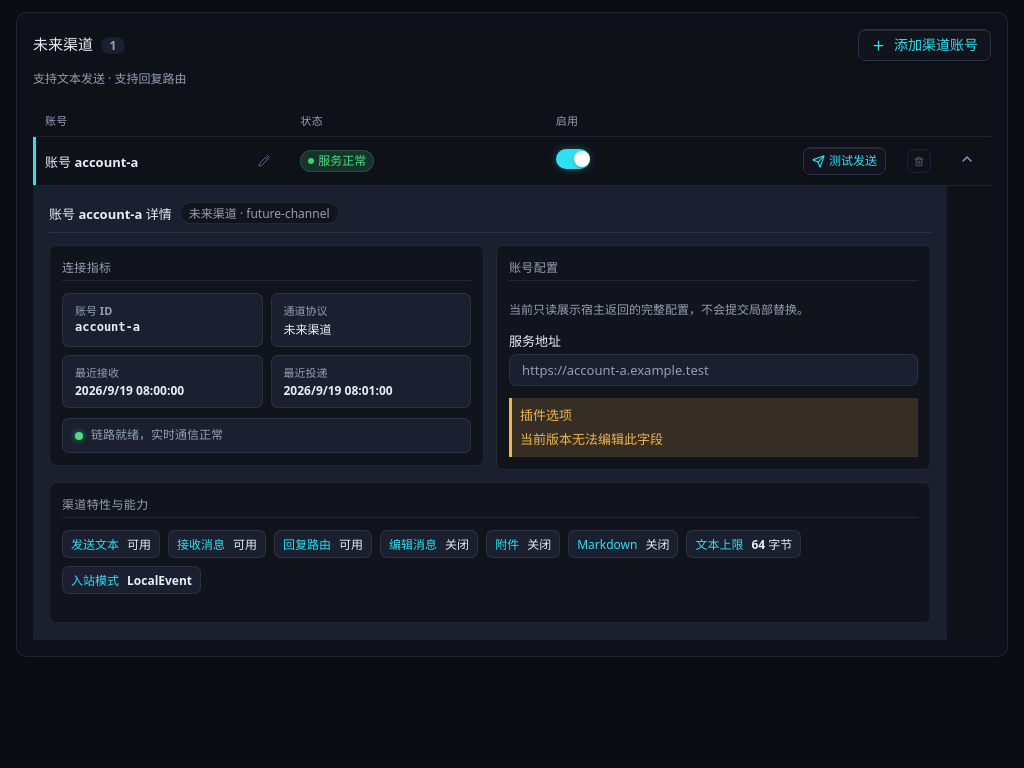
Test: ChannelsPage › renames an account inline and keeps the custom name
This screenshot has width=1024, height=768.
Click the button named "重命名账号 账号 account-a": coordinates (264, 161) x1=252 y1=149 x2=276 y2=173
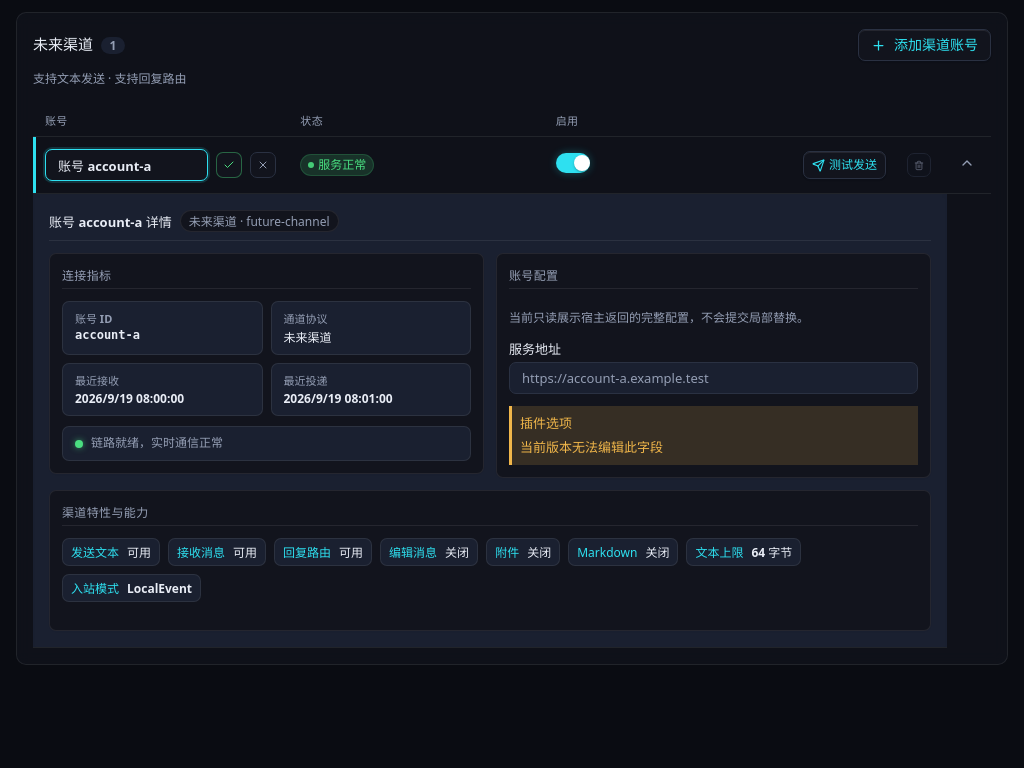
Replace the text in the field named "账号名称" with "工作微信": coordinates (127, 165) x1=45 y1=149 x2=208 y2=181
Then press Enter
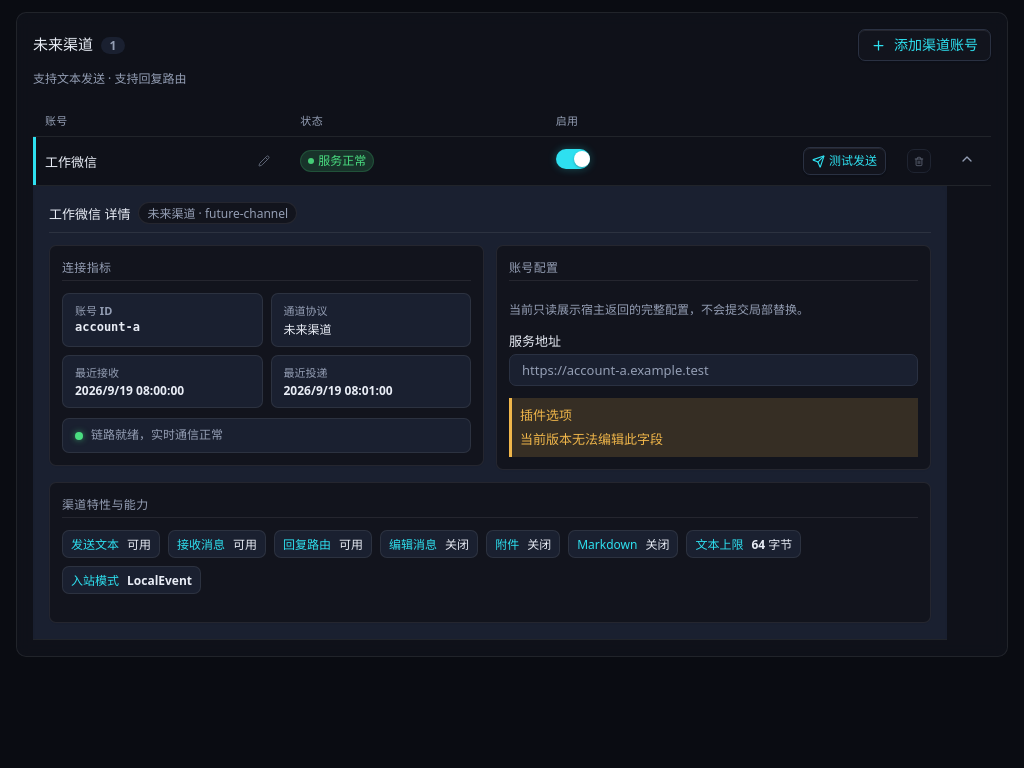
Result: the button named "重命名账号 工作微信" is shown at x1=252 y1=149 x2=276 y2=173
